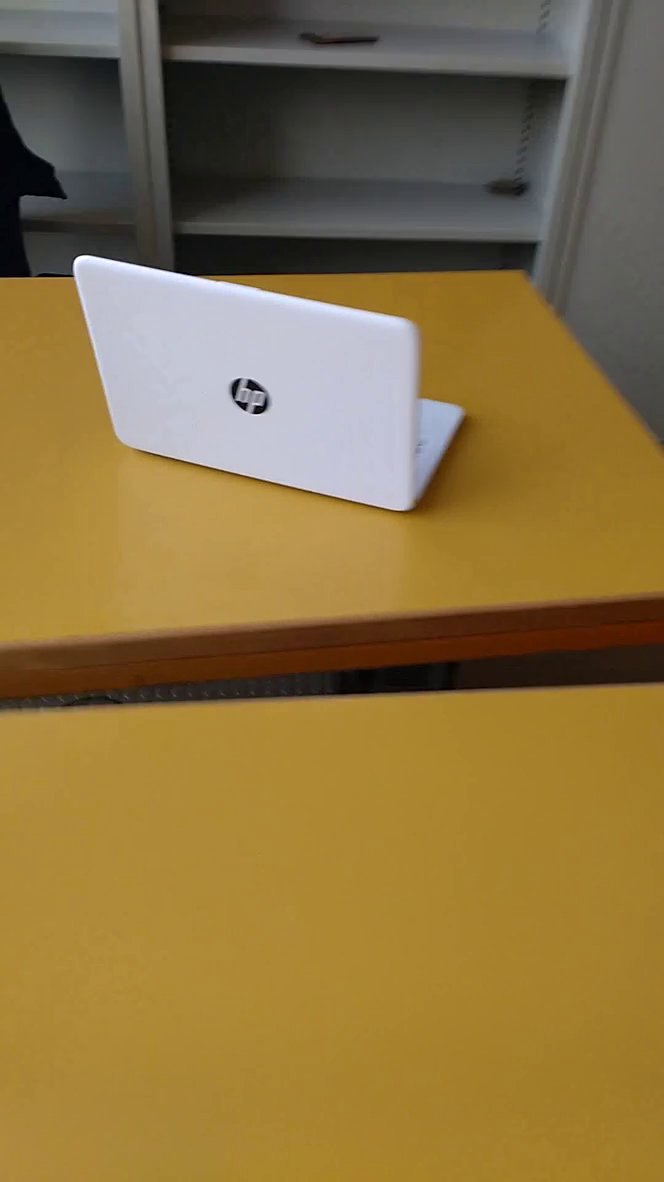laptop: (57, 242, 474, 525)
